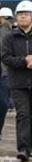boots: (0, 138, 6, 145), (0, 123, 6, 129)
hard-hat: (0, 0, 10, 8)
